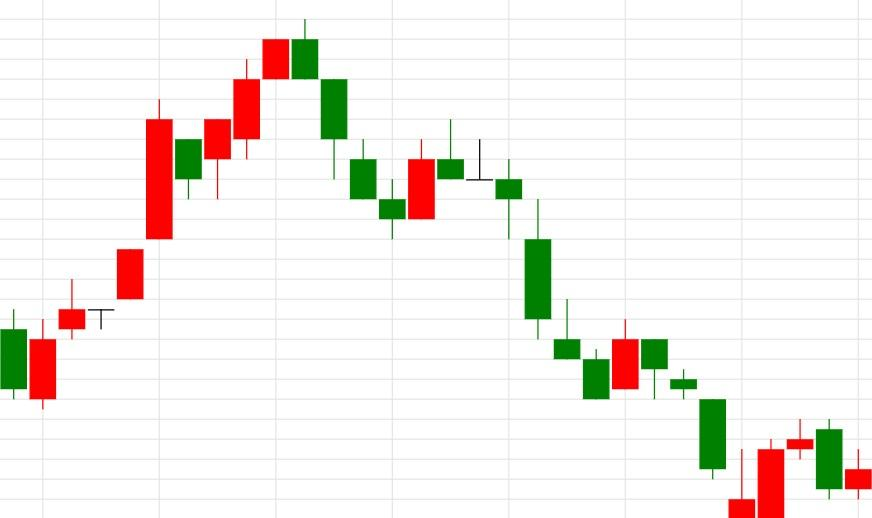inverse_hammer_rise: (611, 317, 756, 518)
three_black_crows_fall: (28, 17, 378, 407)
